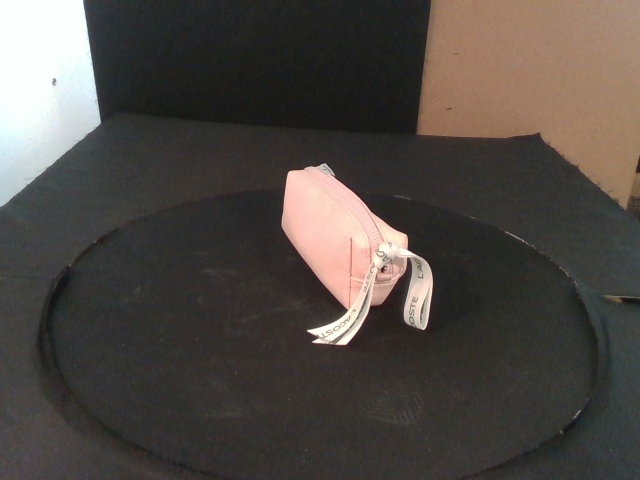pencil_case: (281, 166, 408, 307)
